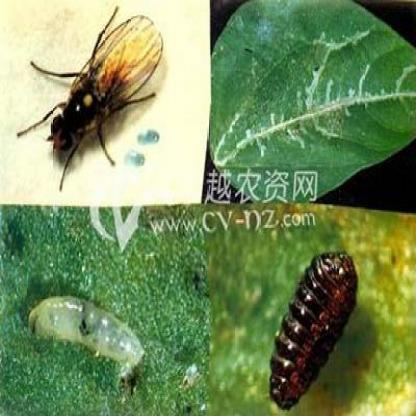whorl-maggot: (262, 240, 362, 416), (26, 290, 150, 378)
